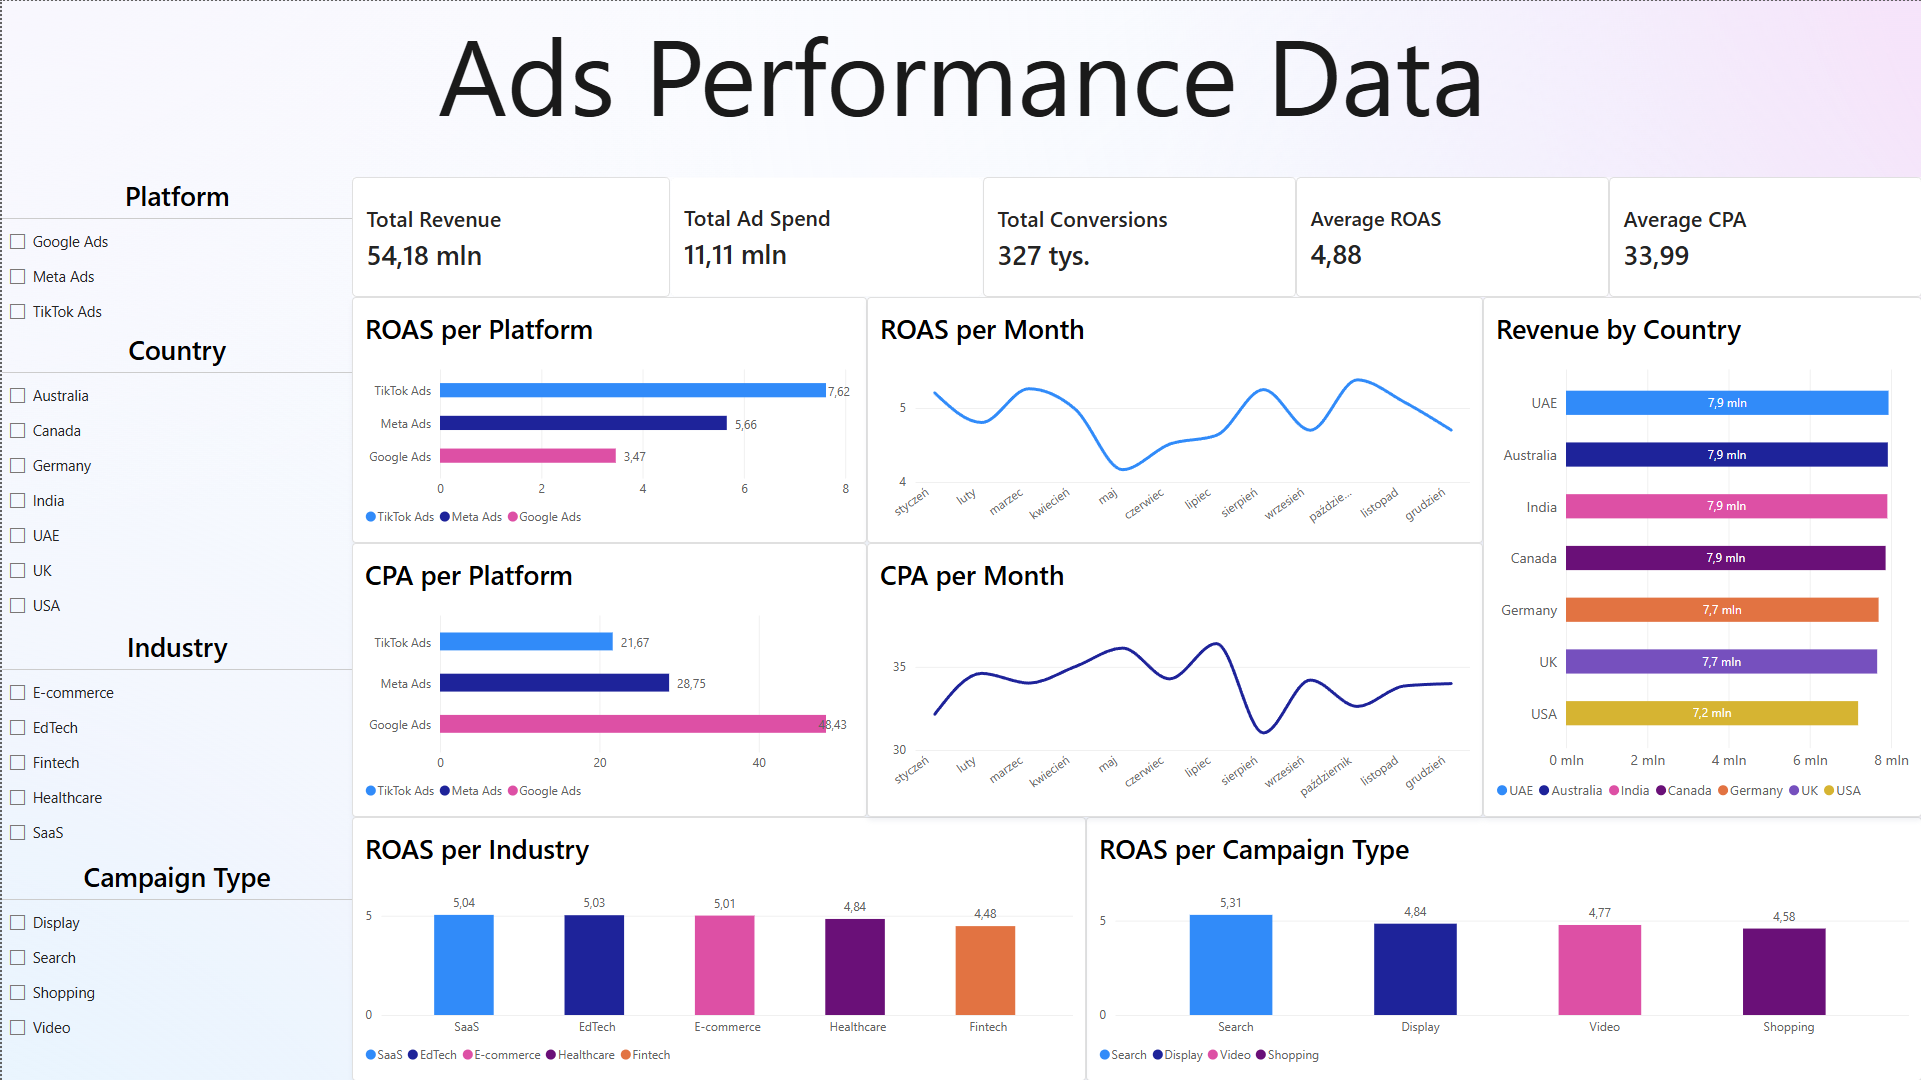

What the dashboard file says about the page in this screenshot:
{"tool":"powerbi","page":{"name":"Strona 1","canvas":[1920,1080],"ordinal":0},"visuals":[{"type":"textbox","box":[0,0,1920,176],"z":0},{"type":"barChart","title":"ROAS per Platform","fields":{"Category":["global_ads_performance_dataset.platform"],"Series":["global_ads_performance_dataset.platform"],"Y":["global_ads_performance_dataset.total_roas"]},"box":[350,296,515,246],"z":1000},{"type":"barChart","title":"CPA per Platform","fields":{"Category":["global_ads_performance_dataset.platform"],"Series":["global_ads_performance_dataset.platform"],"Y":["global_ads_performance_dataset.total_cpa"]},"box":[350,542,515,274],"z":2000},{"type":"columnChart","title":"ROAS per Campaign Type","fields":{"Category":["global_ads_performance_dataset.campaign_type"],"Series":["global_ads_performance_dataset.campaign_type"],"Y":["global_ads_performance_dataset.total_roas"]},"box":[1083.7,815.7,836.3,264],"z":4000},{"type":"columnChart","title":"ROAS per Industry","fields":{"Category":["global_ads_performance_dataset.industry"],"Series":["global_ads_performance_dataset.industry"],"Y":["global_ads_performance_dataset.total_roas"]},"box":[350.4,815.7,733.3,264],"z":5000},{"type":"lineChart","title":"ROAS per Month","fields":{"Category":["global_ads_performance_dataset.date.Variation.Hierarchia dat.Miesiąc"],"Y":["global_ads_performance_dataset.total_roas"]},"box":[865,296,616,246],"z":6000},{"type":"slicer","title":"Platform","fields":{"Values":["global_ads_performance_dataset.platform"]},"box":[0,176,350,154],"z":7000},{"type":"slicer","title":"Country","fields":{"Values":["global_ads_performance_dataset.country"]},"box":[0,330,349.8,296.7],"z":8000},{"type":"slicer","title":"Industry","fields":{"Values":["global_ads_performance_dataset.industry"]},"box":[0,627,350,230],"z":9000},{"type":"slicer","title":"Campaign Type","fields":{"Values":["global_ads_performance_dataset.campaign_type"]},"box":[0,857,349.8,188.6],"z":10000},{"type":"cardVisual","fields":{"Data":["Sum(global_ads_performance_dataset.ad_spend)"]},"box":[668,176,313,119.8],"z":10001},{"type":"cardVisual","fields":{"Data":["Sum(global_ads_performance_dataset.revenue)"]},"box":[350,176,318,120],"z":10002},{"type":"cardVisual","fields":{"Data":["Sum(global_ads_performance_dataset.conversions)"]},"box":[981,176,313,119.8],"z":10003},{"type":"cardVisual","fields":{"Data":["global_ads_performance_dataset.total_roas"]},"box":[1294,176,313,119.9],"z":10004},{"type":"cardVisual","fields":{"Data":["global_ads_performance_dataset.total_cpa"]},"box":[1607,176,313,119.9],"z":10005},{"type":"lineChart","title":"CPA per Month","fields":{"Category":["global_ads_performance_dataset.date.Variation.Hierarchia dat.Miesiąc"],"Y":["global_ads_performance_dataset.total_cpa"]},"box":[865,542,616,274],"z":10006},{"type":"barChart","title":"Revenue by Country","fields":{"Category":["global_ads_performance_dataset.country"],"Series":["global_ads_performance_dataset.country"],"Y":["Sum(global_ads_performance_dataset.revenue)"]},"box":[1481,296,439,520],"z":10007}]}

Visuals, with their boxes in screenshot pixels (x1, y1, x2, y2), scaled from the page's 1920x1080 canvas onto the 1921x1080 screenshot:
textbox: rect(0, 0, 1920, 176)
"ROAS per Platform" barChart: rect(350, 296, 865, 542)
"CPA per Platform" barChart: rect(350, 542, 865, 816)
"ROAS per Campaign Type" columnChart: rect(1084, 816, 1920, 1079)
"ROAS per Industry" columnChart: rect(351, 816, 1084, 1079)
"ROAS per Month" lineChart: rect(865, 296, 1482, 542)
"Platform" slicer: rect(0, 176, 350, 330)
"Country" slicer: rect(0, 330, 350, 627)
"Industry" slicer: rect(0, 627, 350, 857)
"Campaign Type" slicer: rect(0, 857, 350, 1046)
cardVisual - Sum(global_ads_performance_dataset.ad_spend): rect(668, 176, 982, 296)
cardVisual - Sum(global_ads_performance_dataset.revenue): rect(350, 176, 668, 296)
cardVisual - Sum(global_ads_performance_dataset.conversions): rect(982, 176, 1295, 296)
cardVisual - global_ads_performance_dataset.total_roas: rect(1295, 176, 1608, 296)
cardVisual - global_ads_performance_dataset.total_cpa: rect(1608, 176, 1920, 296)
"CPA per Month" lineChart: rect(865, 542, 1482, 816)
"Revenue by Country" barChart: rect(1482, 296, 1920, 816)
